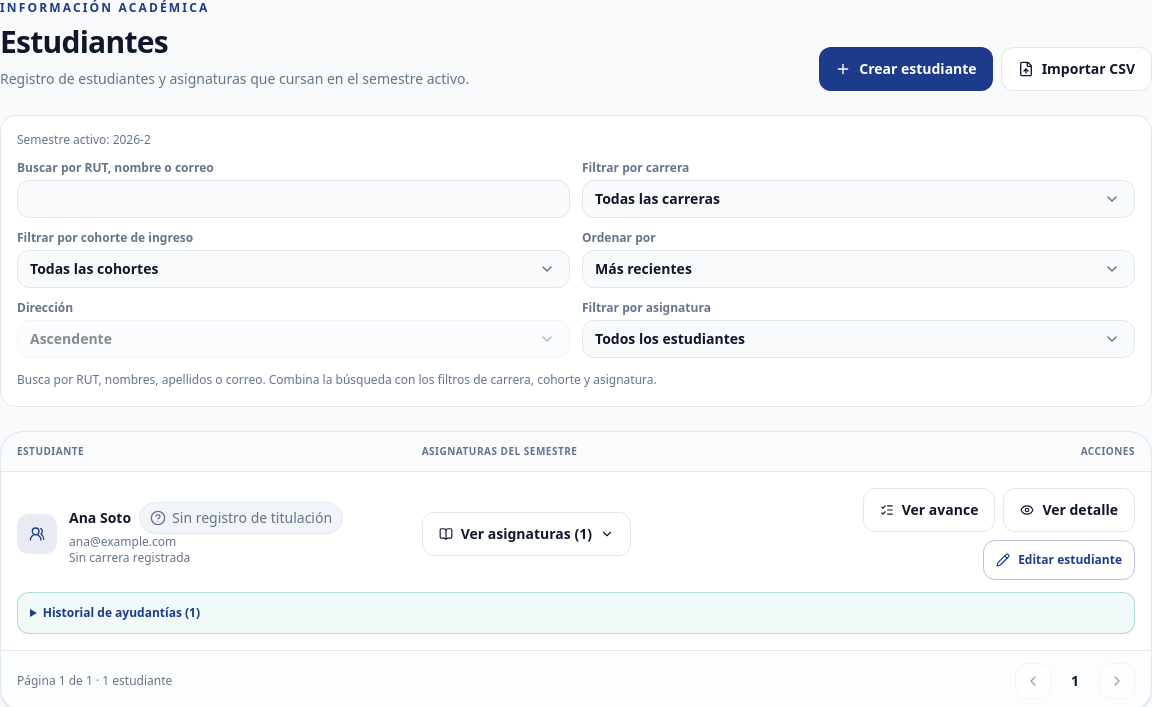
Test: Estudiantes › muestra las asignaturas y semestres en que el estudiante fue ayudante
Click the heading "Historial de ayudantías (1)": click(121, 612) [43, 604, 200, 621]
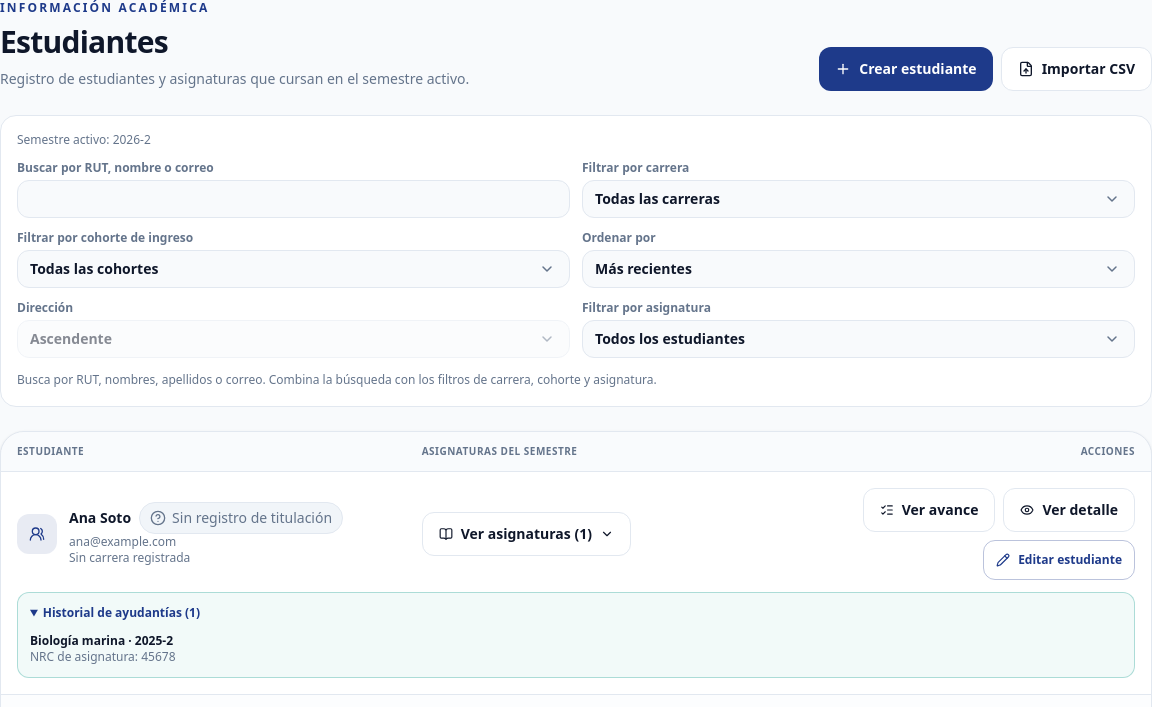
Check: the text "Biología marina · 2025-2" is shown, box [30, 632, 173, 649]
Check: the text "NRC de asignatura: 45678" is shown, box [30, 648, 176, 665]
